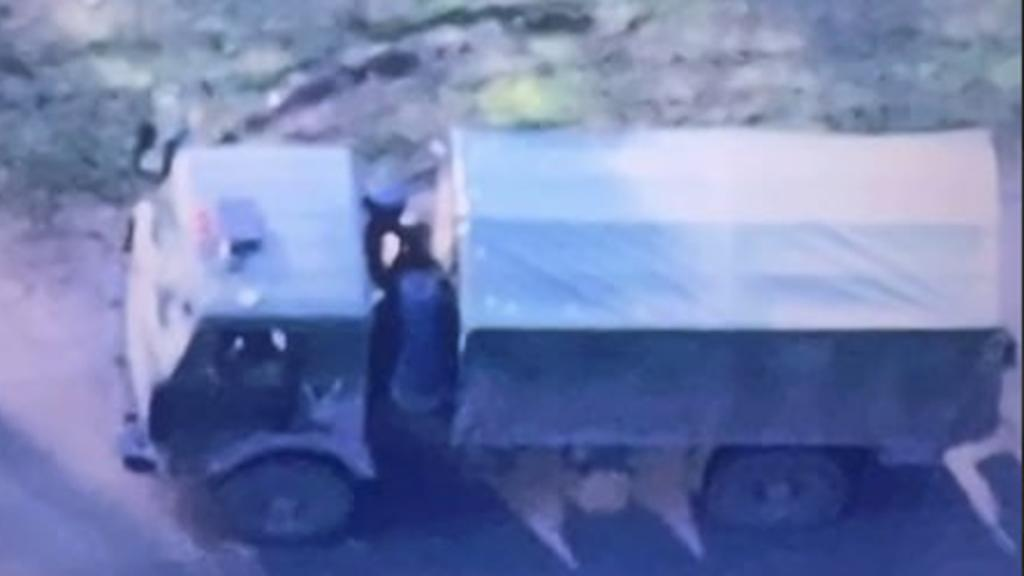TRUCK: (100, 116, 1014, 551)
